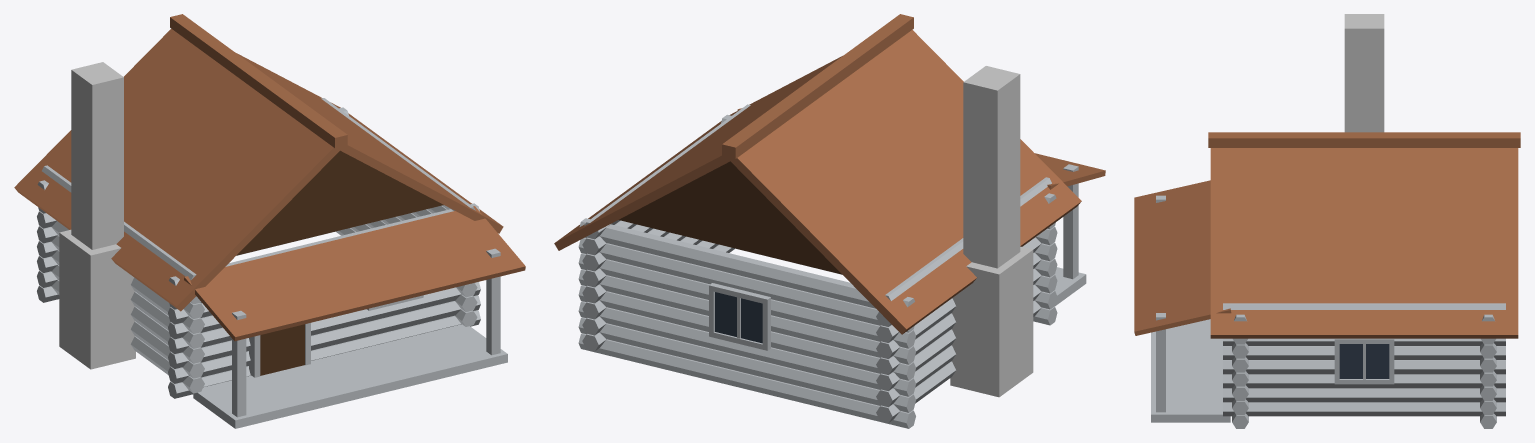
File: log_cabin.gltf
3 renders of one model, left to right at view 1: azimuth 30°, elevation 25°; view 2: azimuth 150°, elevation 25°; view 3: azimuth 270°, elevation 25°, orthographic. The views are drawn at different scales.
Parts seen in each view (by area): view 1: RoofSlab.034, PorchRoof.064, Porch.061, Chimney.060, Chimney.059, Gable.035, RoofSlab.033, Ridge.036, Log.005, Log.009, Log.001, Door.037 (+12 smaller); view 2: RoofSlab.034, Chimney.060, Chimney.059, Gable.035, RoofSlab.033, Log.030, Log.002, Log.006, Log.010, Ridge.036, Log.026, Log.014 (+14 smaller); view 3: RoofSlab.033, PorchRoof.064, Porch.061, Ridge.036, Chimney.060, Log.004, Log.008, Log.012, Log.016, Log.020, Log.032, Window.047 (+2 smaller).
Part boxes in pixels (x1=…): RoofSlab.034: x1=14, y1=28, x2=339, y2=311; PorchRoof.064: x1=184, y1=206, x2=525, y2=341; Porch.061: x1=193, y1=324, x2=507, y2=428; Chimney.060: x1=71, y1=62, x2=123, y2=249; Chimney.059: x1=59, y1=229, x2=135, y2=369; Gable.035: x1=236, y1=150, x2=443, y2=255; RoofSlab.033: x1=236, y1=53, x2=503, y2=233; Ridge.036: x1=170, y1=14, x2=347, y2=148; Log.005: x1=168, y1=295, x2=480, y2=383; Log.009: x1=168, y1=282, x2=480, y2=368; Log.001: x1=168, y1=310, x2=480, y2=398; Door.037: x1=260, y1=324, x2=304, y2=375; RoofSlab.034: x1=728, y1=30, x2=1081, y2=334; Chimney.060: x1=963, y1=66, x2=1020, y2=268; Chimney.059: x1=950, y1=246, x2=1033, y2=397; Gable.035: x1=619, y1=161, x2=841, y2=274; RoofSlab.033: x1=554, y1=56, x2=842, y2=250; Log.030: x1=579, y1=218, x2=914, y2=308; Log.002: x1=578, y1=333, x2=915, y2=428; Log.006: x1=578, y1=317, x2=915, y2=412; Log.010: x1=578, y1=301, x2=915, y2=396; Ridge.036: x1=722, y1=14, x2=913, y2=158; Log.026: x1=578, y1=237, x2=914, y2=332; Log.014: x1=578, y1=285, x2=915, y2=380; RoofSlab.033: x1=1210, y1=148, x2=1518, y2=338; PorchRoof.064: x1=1134, y1=180, x2=1231, y2=335; Porch.061: x1=1151, y1=319, x2=1230, y2=422; Ridge.036: x1=1208, y1=132, x2=1520, y2=147; Chimney.060: x1=1344, y1=14, x2=1384, y2=132; Log.004: x1=1223, y1=402, x2=1505, y2=416; Log.008: x1=1223, y1=388, x2=1505, y2=402; Log.012: x1=1223, y1=374, x2=1505, y2=388; Log.016: x1=1223, y1=360, x2=1505, y2=374; Log.020: x1=1223, y1=346, x2=1505, y2=359; Log.032: x1=1223, y1=303, x2=1505, y2=309; Window.047: x1=1339, y1=344, x2=1389, y2=378.
Size of the model in its own units: 7.65 by 5.87 by 7.79.
